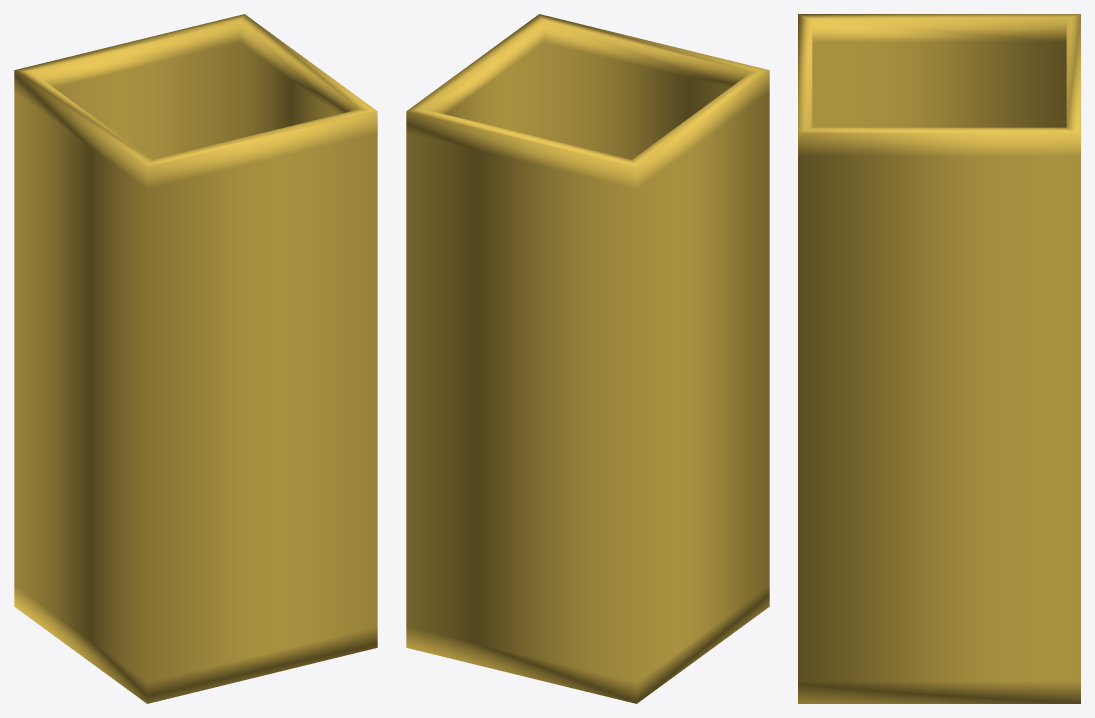
The model's file is DrinkGlass_10.fbx.
The picture shows the model from 3 angles, left to right: view 1: azimuth 30°, elevation 25°; view 2: azimuth 150°, elevation 25°; view 3: azimuth 270°, elevation 25°; orthographic projection. The views are drawn at different scales.
Parts seen in each view (by area): view 1: DrinkGlass 10; view 2: DrinkGlass 10; view 3: DrinkGlass 10.
Boxes of the visible parts, <box> form: DrinkGlass 10: <box>14,14,377,703</box>; DrinkGlass 10: <box>406,14,769,703</box>; DrinkGlass 10: <box>798,14,1080,703</box>.
Size of the model in its own units: 0.0987 by 0.2195 by 0.0987.
